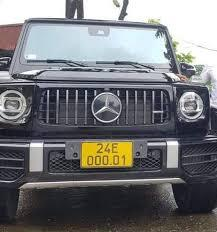number_plate: (80, 140, 132, 166)
